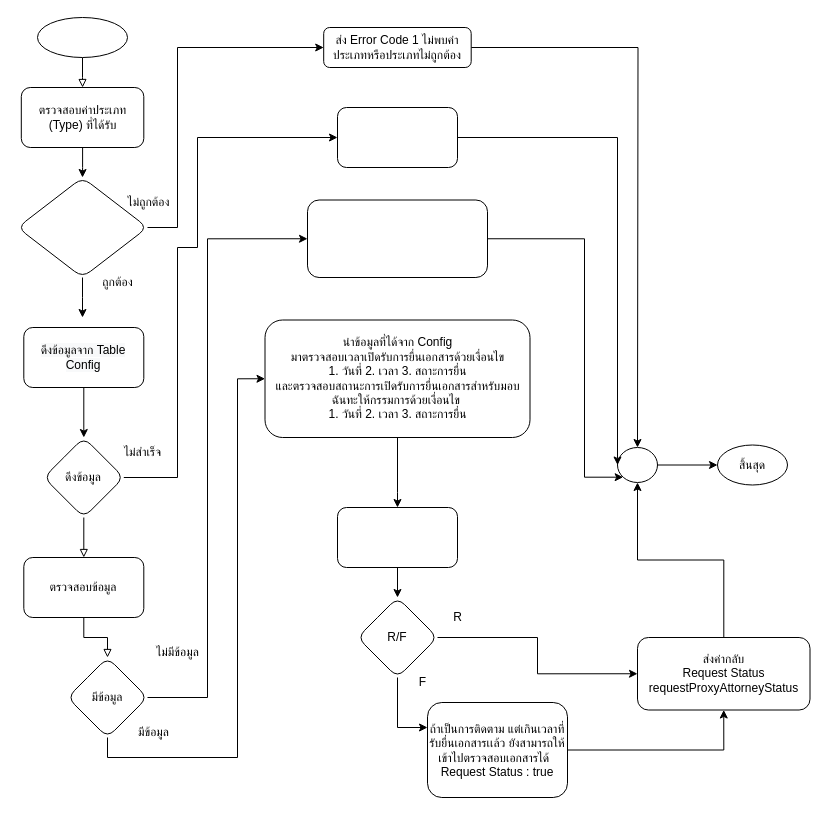
Image size: 828x815. Some labels were removed from this diagram. Here are the shapes that lost their labels. From the top down, the centre of each, then its label:
At (82,37): "เริ่มต้น".
At (397,137): "ส่ง Error Message เเละ Error Code 99".
At (82,227): "มีประเภท (Type) และเป็น R / F".
At (397,238): "ส่งค่ากลับ Request Status : false , requestProxyAttorneyStatus : false".
At (397,537): "ตรวจสอบสอบ Type".
